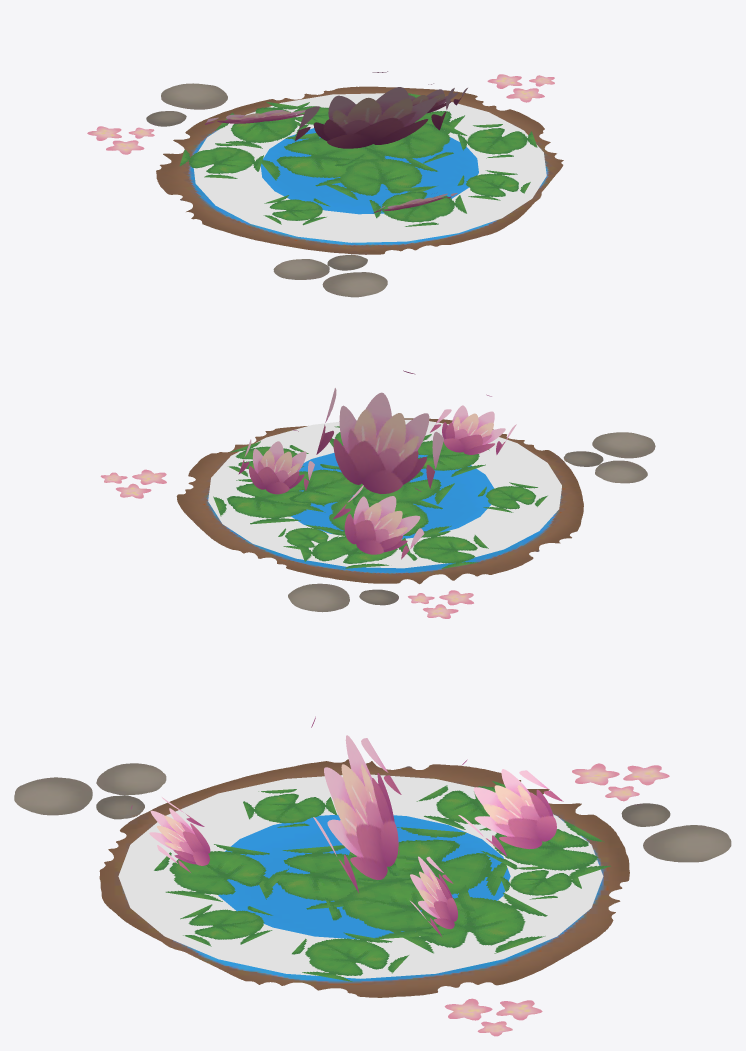
Rendered from LotusPond.fbx.
The picture shows the model from 3 angles, top to bottom: view 1: azimuth 30°, elevation 25°; view 2: azimuth 150°, elevation 25°; view 3: azimuth 270°, elevation 25°; orthographic projection. The views are drawn at different scales.
Parts seen in each view (by area): view 1: pPlane1, vfx_mesh_pond_water_foam_00 (1), LotusFruit2, LotusLeaf (×2), LotusLeaf (1), LotusLeaf3, LotusLeaf3 (1), LotusLeaf (3), LotusLeaf3 (3), LotusLeaf3 (2), LotusLeaf (2), LotusFruit3 (1) (+1 smaller); view 2: pPlane1, vfx_mesh_pond_water_foam_00 (1), LotusFruit2, LotusLeaf (×2), LotusFruit3 (1), LotusLeaf (2) (×2), LotusLeaf (3) (×2), LotusFruit1, LotusFruit3, LotusLeaf3 (1), LotusLeaf (1), LotusLeaf3 (+1 smaller); view 3: pPlane1, vfx_mesh_pond_water_foam_00 (1), LotusLeaf (×2), LotusFruit2, LotusLeaf (2) (×2), LotusFruit3 (1), LotusLeaf (1), LotusLeaf3, LotusLeaf (3) (×2), LotusLeaf3 (3), LotusLeaf3 (1), LotusFruit3 (+2 smaller).
Part boxes in pixels (bbox=[...]): pPlane1: bbox=[87, 74, 563, 297]; vfx_mesh_pond_water_foam_00 (1): bbox=[193, 93, 546, 242]; LotusFruit2: bbox=[295, 71, 454, 148]; LotusLeaf (×2): bbox=[323, 123, 467, 199]; LotusLeaf (1): bbox=[261, 133, 403, 186]; LotusLeaf3: bbox=[369, 186, 466, 226]; LotusLeaf3 (1): bbox=[215, 101, 308, 148]; LotusLeaf (3): bbox=[179, 143, 263, 178]; LotusLeaf3 (3): bbox=[457, 124, 537, 158]; LotusLeaf3 (2): bbox=[457, 170, 530, 200]; LotusLeaf (2): bbox=[263, 195, 329, 225]; LotusFruit3 (1): bbox=[205, 108, 305, 124]; pPlane1: bbox=[100, 418, 655, 618]; vfx_mesh_pond_water_foam_00 (1): bbox=[208, 419, 561, 568]; LotusFruit2: bbox=[316, 370, 443, 493]; LotusLeaf (×2): bbox=[281, 464, 454, 512]; LotusFruit3 (1): bbox=[333, 485, 424, 559]; LotusLeaf (2) (×2): bbox=[213, 479, 547, 524]; LotusLeaf (3) (×2): bbox=[278, 524, 488, 568]; LotusFruit1: bbox=[238, 429, 314, 494]; LotusFruit3: bbox=[430, 394, 516, 454]; LotusLeaf3 (1): bbox=[298, 532, 411, 568]; LotusLeaf (1): bbox=[312, 496, 451, 535]; LotusLeaf3: bbox=[418, 434, 489, 476]; pPlane1: bbox=[14, 759, 731, 1036]; vfx_mesh_pond_water_foam_00 (1): bbox=[118, 774, 603, 978]; LotusLeaf (×2): bbox=[259, 845, 475, 939]; LotusFruit2: bbox=[311, 716, 401, 892]; LotusLeaf (2) (×2): bbox=[243, 789, 547, 953]; LotusFruit3 (1): bbox=[458, 759, 563, 856]; LotusLeaf (1): bbox=[349, 827, 507, 895]; LotusLeaf3: bbox=[154, 844, 288, 901]; LotusLeaf (3) (×2): bbox=[416, 781, 581, 899]; LotusLeaf3 (3): bbox=[292, 932, 408, 981]; LotusLeaf3 (1): bbox=[479, 819, 610, 879]; LotusFruit3: bbox=[130, 797, 210, 872].
Size of the model in its own units: 1.77 by 0.4929 by 1.78.
